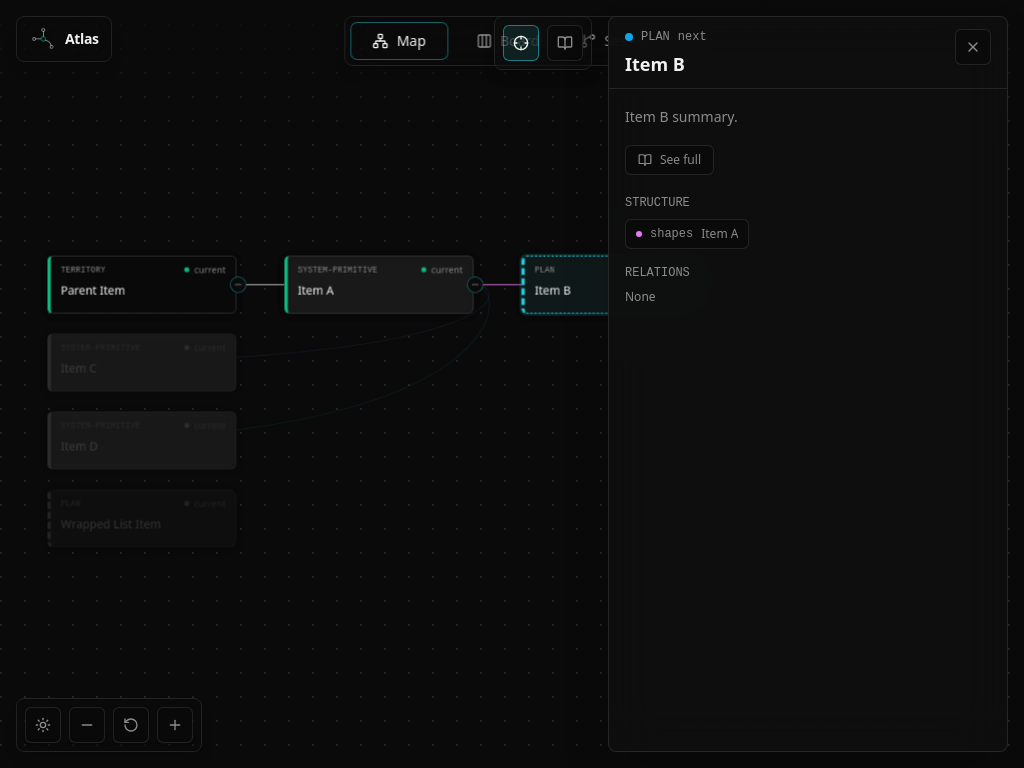
Test: PlanWorkstreamExplorer › offers full detail for a source-backed node with an Atlas loading state
Click the button "See full" at (670, 160), box [625,144,714,174]
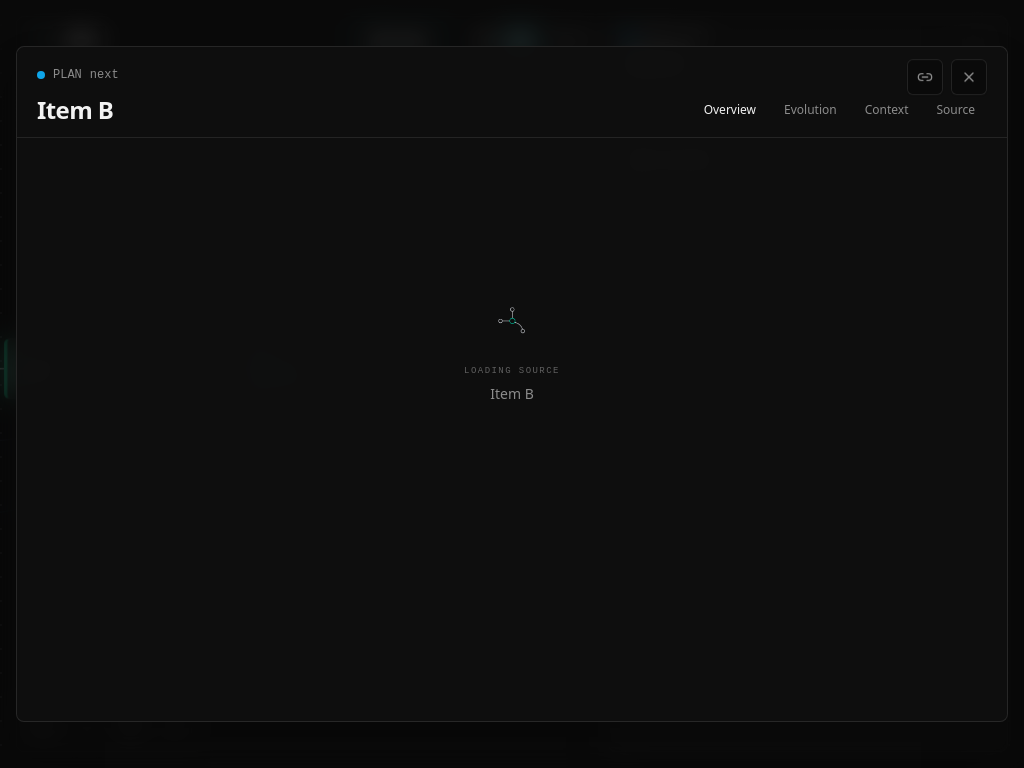
Now the text "Loading source" is shown, box [464,365,560,378]
Now the text "Item B" below "Loading source" is shown, box [490,384,534,403]
